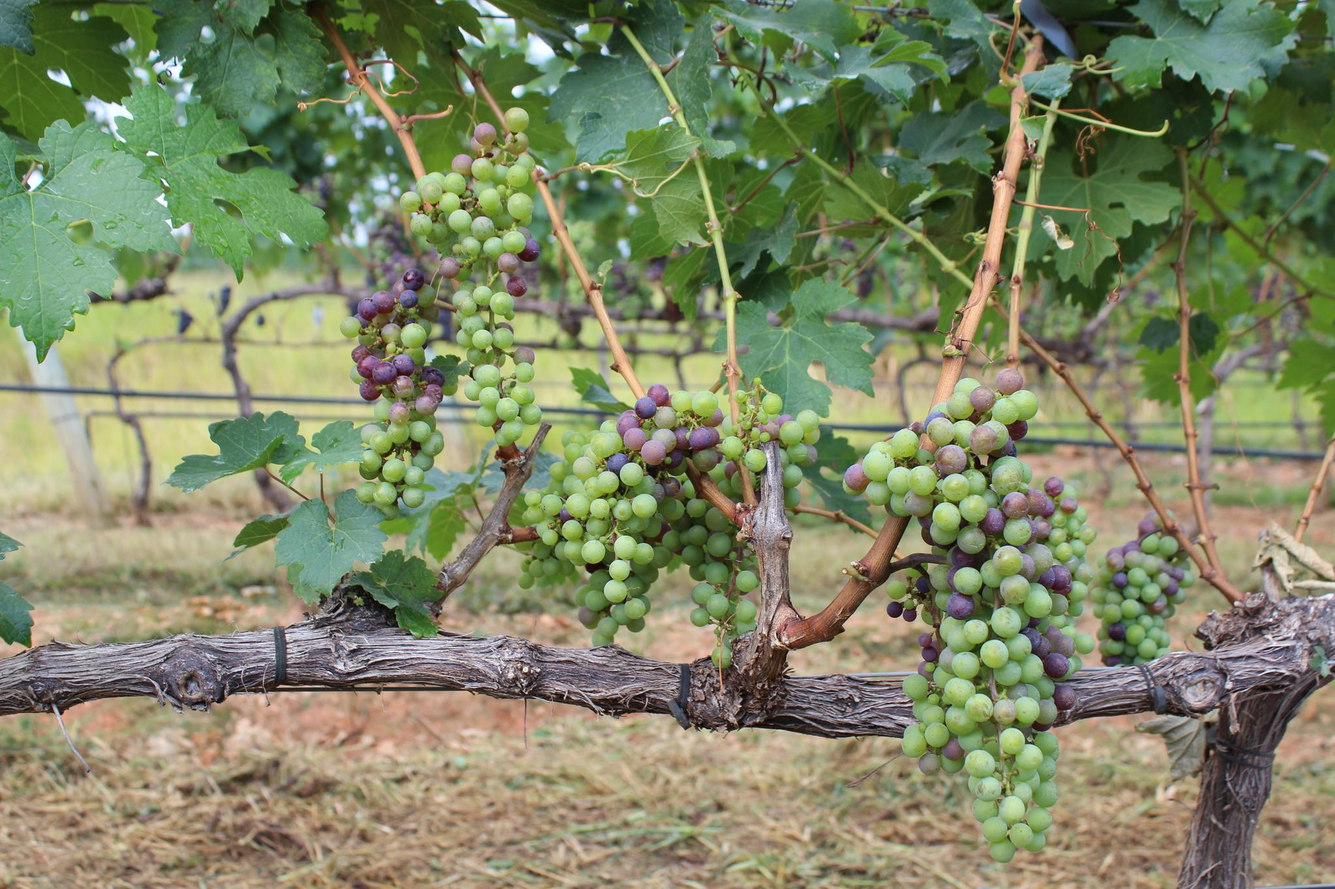Grape Unripe: (853, 371, 1064, 858), (393, 111, 544, 454), (639, 384, 762, 660), (342, 275, 466, 507), (528, 420, 652, 651), (1080, 507, 1183, 666), (1034, 467, 1099, 567)
